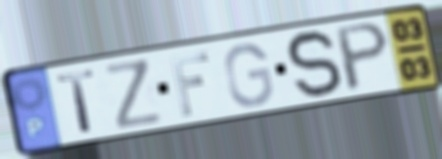F: (167, 49, 212, 119)
G: (221, 41, 276, 110)
P: (334, 19, 392, 96)
S: (284, 27, 346, 103)
T: (54, 67, 100, 136)
Z: (101, 56, 167, 132)
